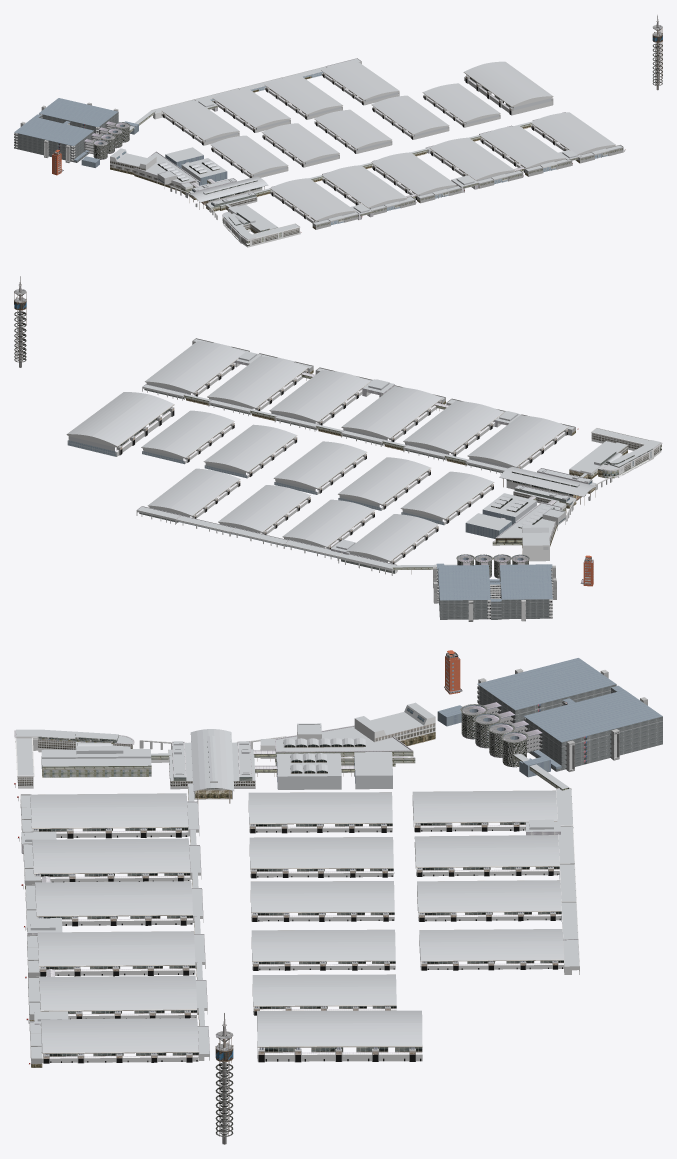
The model's file is messe-muenchen.glb.
The picture shows the model from 3 angles, top to bottom: view 1: azimuth 30°, elevation 25°; view 2: azimuth 150°, elevation 25°; view 3: azimuth 270°, elevation 25°; orthographic projection. The views are drawn at different scales.
Parts seen in each view (by area): view 1: _C-_Muc_Messe_Riem_76_low (Loose Mesh), C-Gruppe#33.002, C-Gruppe#33.022, C-Gruppe#33.024, C-Gruppe#33.026, C-Gruppe#33.006, C-Gruppe#33.030, C-Gruppe#33.028, C-Gruppe#33.003, C-Gruppe#33, C-Gruppe#33.014, C-Gruppe#33.004 (+30 smaller); view 2: _C-_Muc_Messe_Riem_76_low (Loose Mesh), C-Gruppe#33.002, C-Gruppe#33.024, C-Gruppe#33.028, C-Gruppe#33.026, C-Gruppe#33.006, C-Gruppe#33.022, C-Gruppe#33.030, C-Gruppe#33.003, C-Gruppe#33.008, C-Gruppe#33.012, C-Gruppe#33.004 (+31 smaller); view 3: _C-_Muc_Messe_Riem_76_low (Loose Mesh), C-Gruppe#33.003, C-Gruppe#33.027, C-Gruppe#33.031, C-Gruppe#33.025, C-Gruppe#33.029, C-Gruppe#33.007, C-Gruppe#33.023, _G-Object.070 (Loose Mesh), C-Gruppe#33.017, C-Gruppe#33.011, C-Gruppe#33.013 (+43 smaller).
Boxes of the visible parts, <box> form: _C-_Muc_Messe_Riem_76_low (Loose Mesh): <box>14,98,508,247</box>; C-Gruppe#33.002: <box>463,64,532,107</box>; C-Gruppe#33.022: <box>322,168,387,208</box>; C-Gruppe#33.024: <box>371,155,437,195</box>; C-Gruppe#33.026: <box>429,140,495,180</box>; C-Gruppe#33.006: <box>269,181,335,220</box>; C-Gruppe#33.030: <box>530,115,596,155</box>; C-Gruppe#33.028: <box>480,128,545,168</box>; C-Gruppe#33.003: <box>485,61,553,102</box>; C-Gruppe#33: <box>314,112,374,148</box>; C-Gruppe#33.014: <box>264,78,324,114</box>; C-Gruppe#33.004: <box>161,104,221,140</box>; _C-_Muc_Messe_Riem_76_low (Loose Mesh): <box>433,440,662,621</box>; C-Gruppe#33.002: <box>92,394,174,447</box>; C-Gruppe#33.024: <box>365,390,442,438</box>; C-Gruppe#33.028: <box>231,359,307,408</box>; C-Gruppe#33.026: <box>293,373,370,422</box>; C-Gruppe#33.006: <box>491,418,568,467</box>; C-Gruppe#33.022: <box>427,404,504,452</box>; C-Gruppe#33.030: <box>169,344,244,393</box>; C-Gruppe#33.003: <box>66,392,148,441</box>; C-Gruppe#33.008: <box>360,460,430,504</box>; C-Gruppe#33.012: <box>304,502,374,547</box>; C-Gruppe#33.004: <box>368,517,438,561</box>; _C-_Muc_Messe_Riem_76_low (Loose Mesh): <box>14,658,662,960</box>; C-Gruppe#33.003: <box>257,1023,422,1047</box>; C-Gruppe#33.027: <box>38,944,195,966</box>; C-Gruppe#33.031: <box>41,1031,198,1053</box>; C-Gruppe#33.025: <box>36,894,192,916</box>; C-Gruppe#33.029: <box>40,989,196,1011</box>; C-Gruppe#33.007: <box>31,806,188,828</box>; C-Gruppe#33.023: <box>33,851,190,874</box>; _G-Object.070 (Loose Mesh): <box>41,742,171,777</box>; C-Gruppe#33.017: <box>249,804,392,824</box>; C-Gruppe#33.011: <box>253,986,396,1006</box>; C-Gruppe#33.013: <box>415,847,559,867</box>.
Size of the model in its own units: 1151 by 154 by 681.
Materials: 93 (51 with a texture image).
